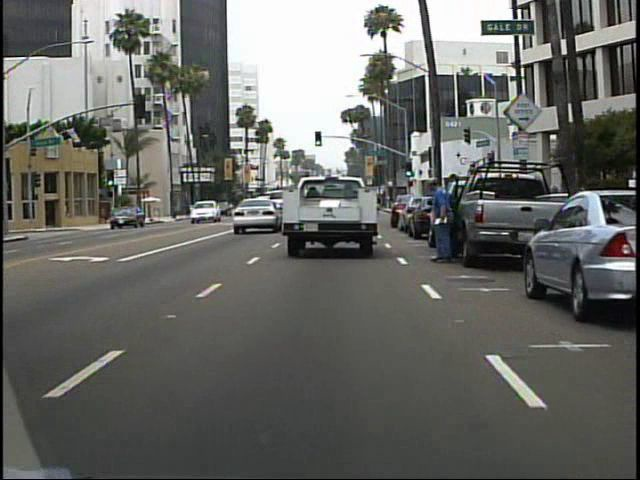person: (420, 175, 463, 270)
